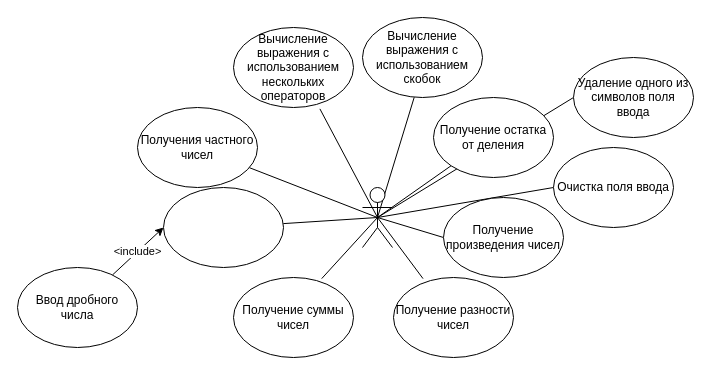
Some shapes in this 711 by 375 pixel diagram are drawn without their labels. Here are the shapes that lost their labels. From the top down, the centre of each, then its label:
(223,227): Ввод числа в поле
(377,217): Пользователь
